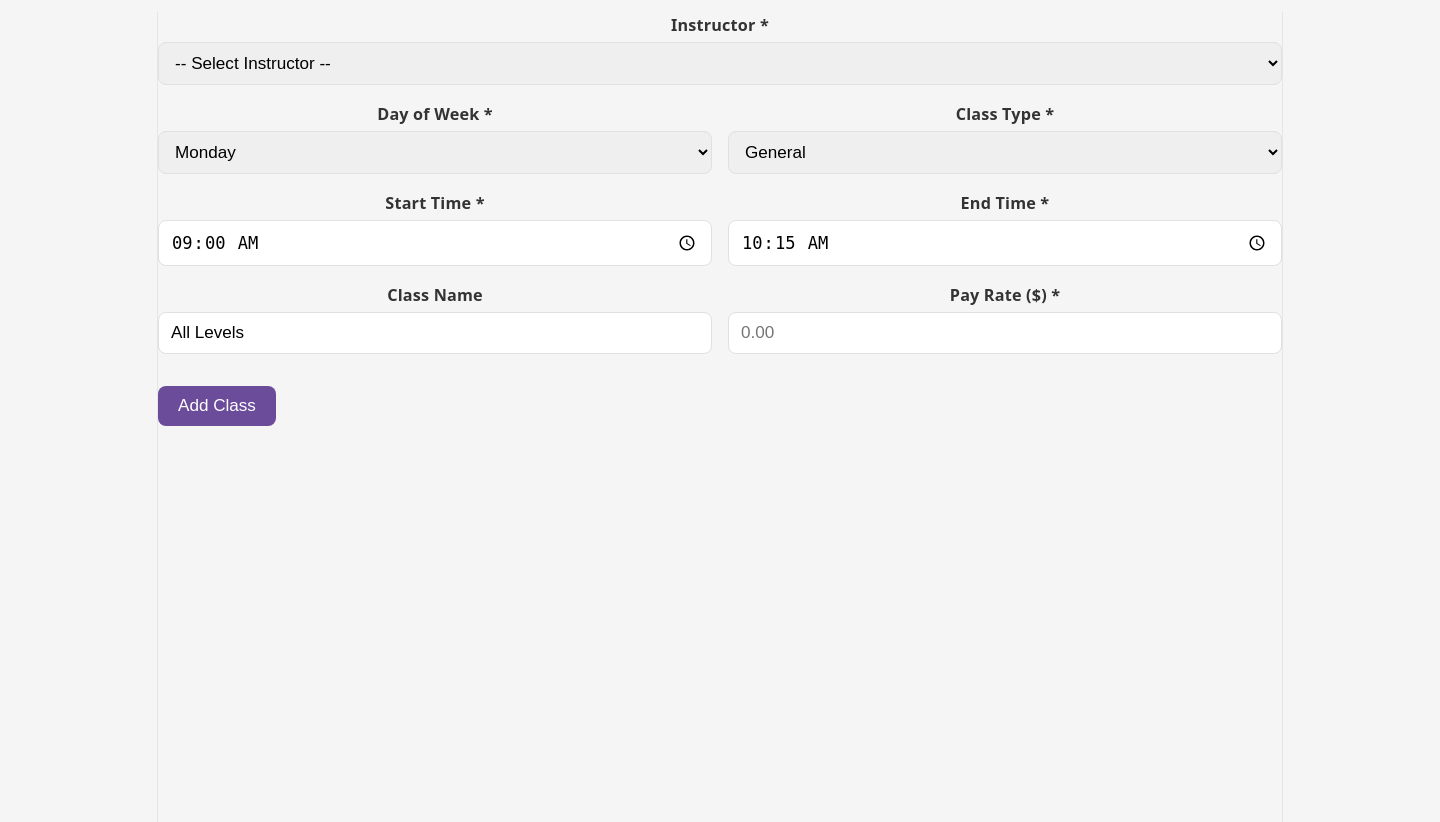
Scenario: ClassForm — required field validation › shows error when endTime is before startTime
Replace the text in the time field named "startTime" below "Start Time *" with "10:00" at (435,243), box [158,220,712,266]
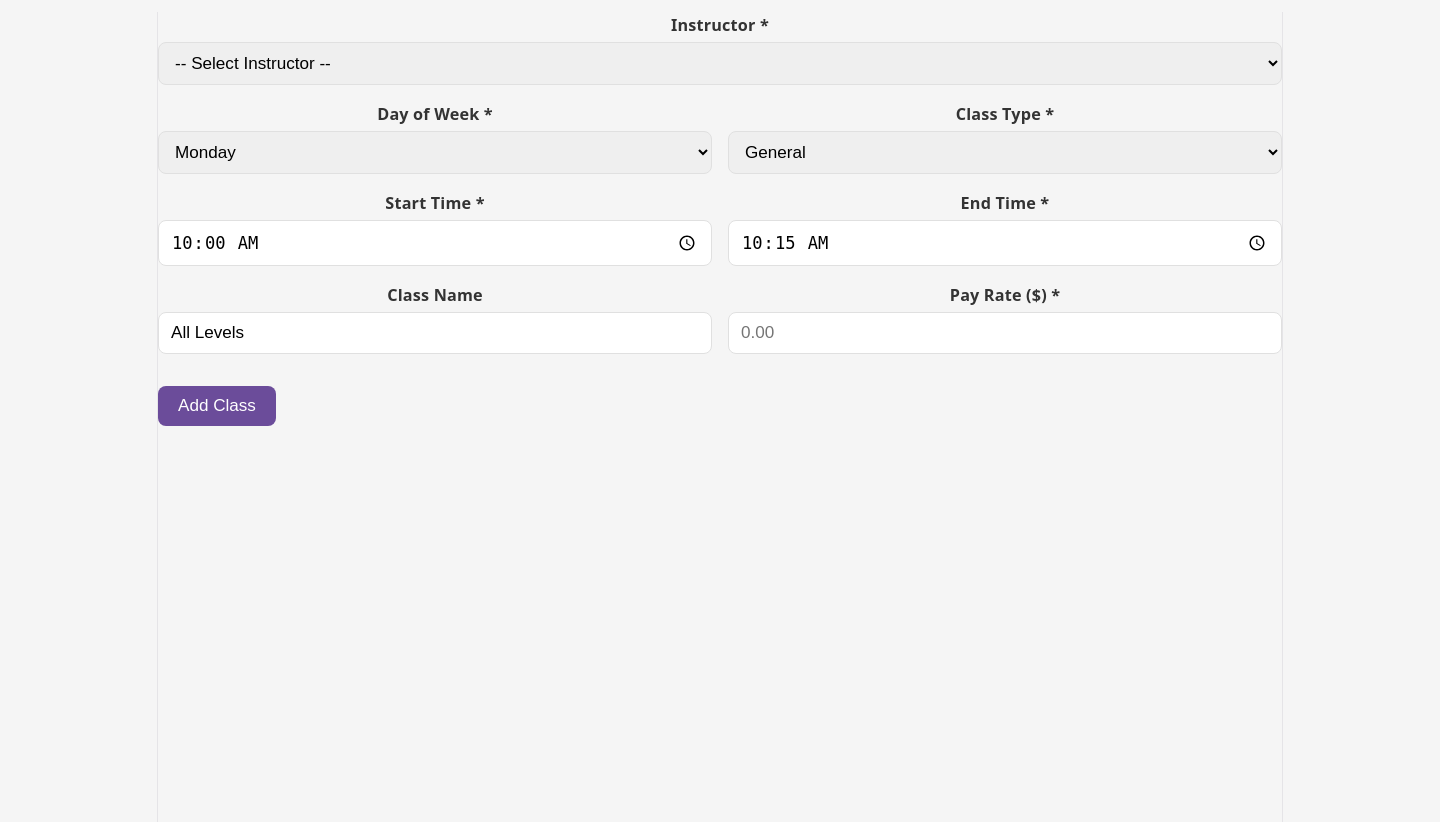
Replace the text in the time field named "endTime" below "End Time *" with "09:00" at (1005,243), box [728,220,1282,266]
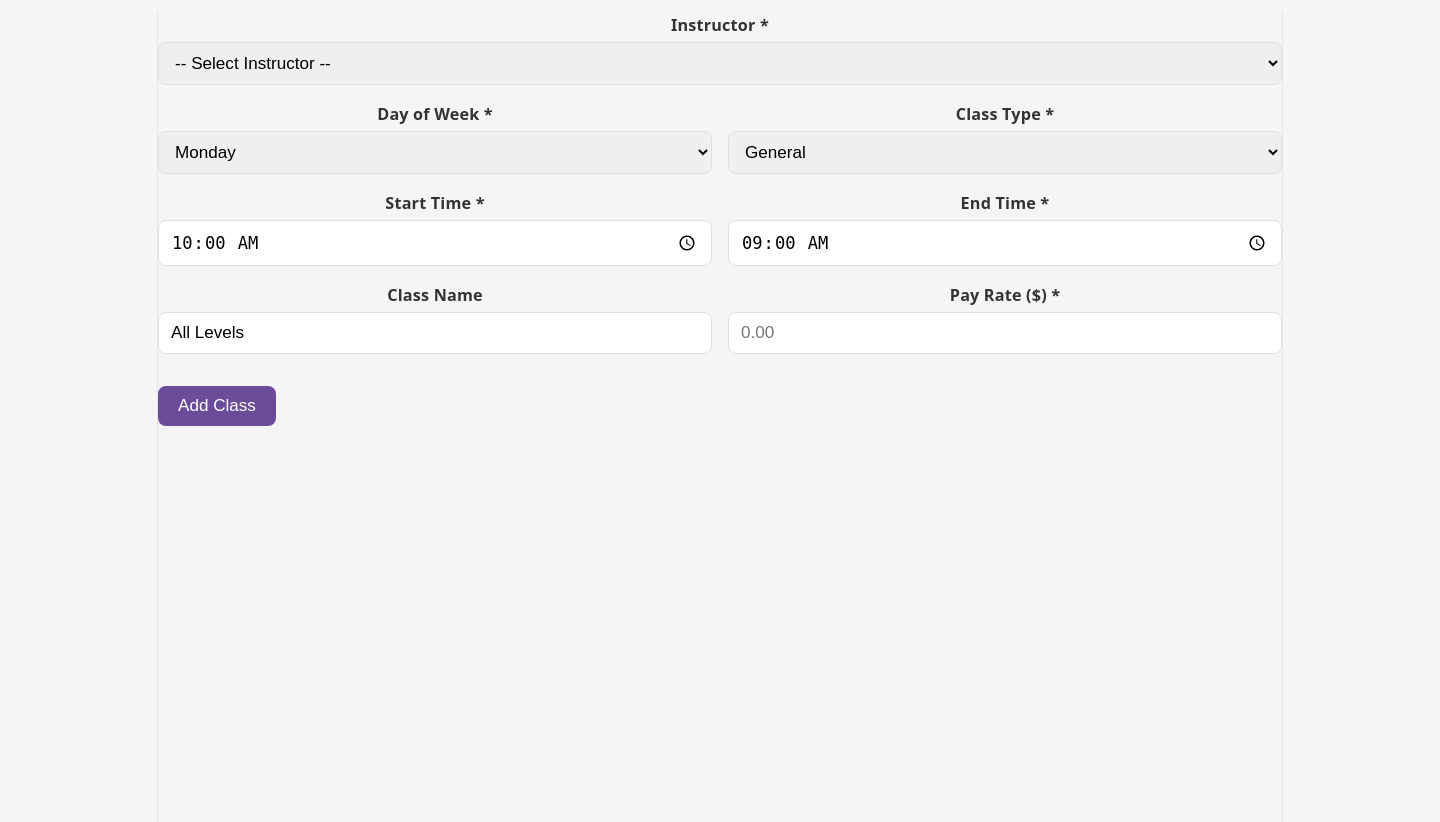
Submit the form from the button "Add Class", box [158,386,276,426]
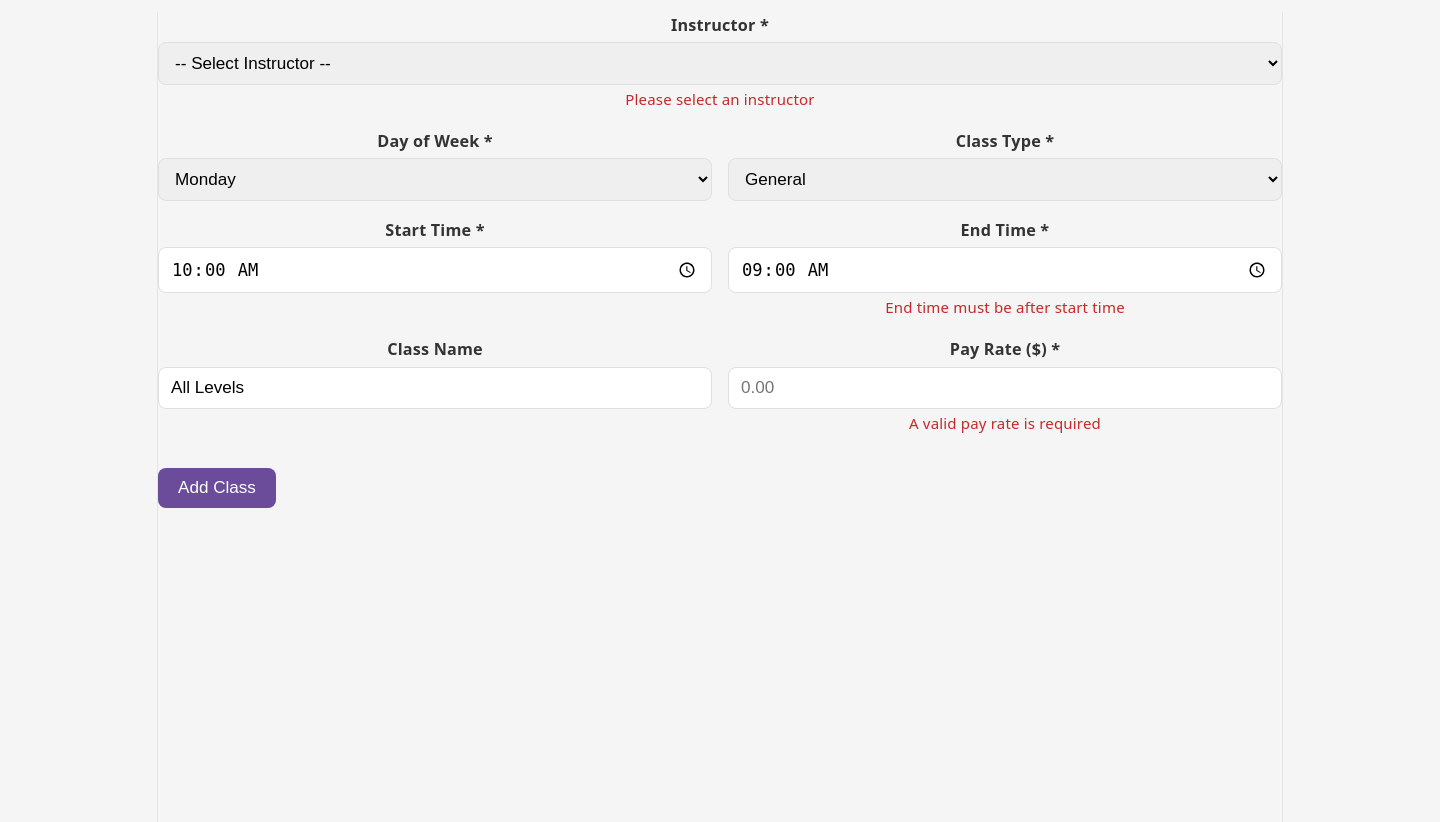
Check: the text "End time must be after start time" is shown, box [885,297,1125,317]
